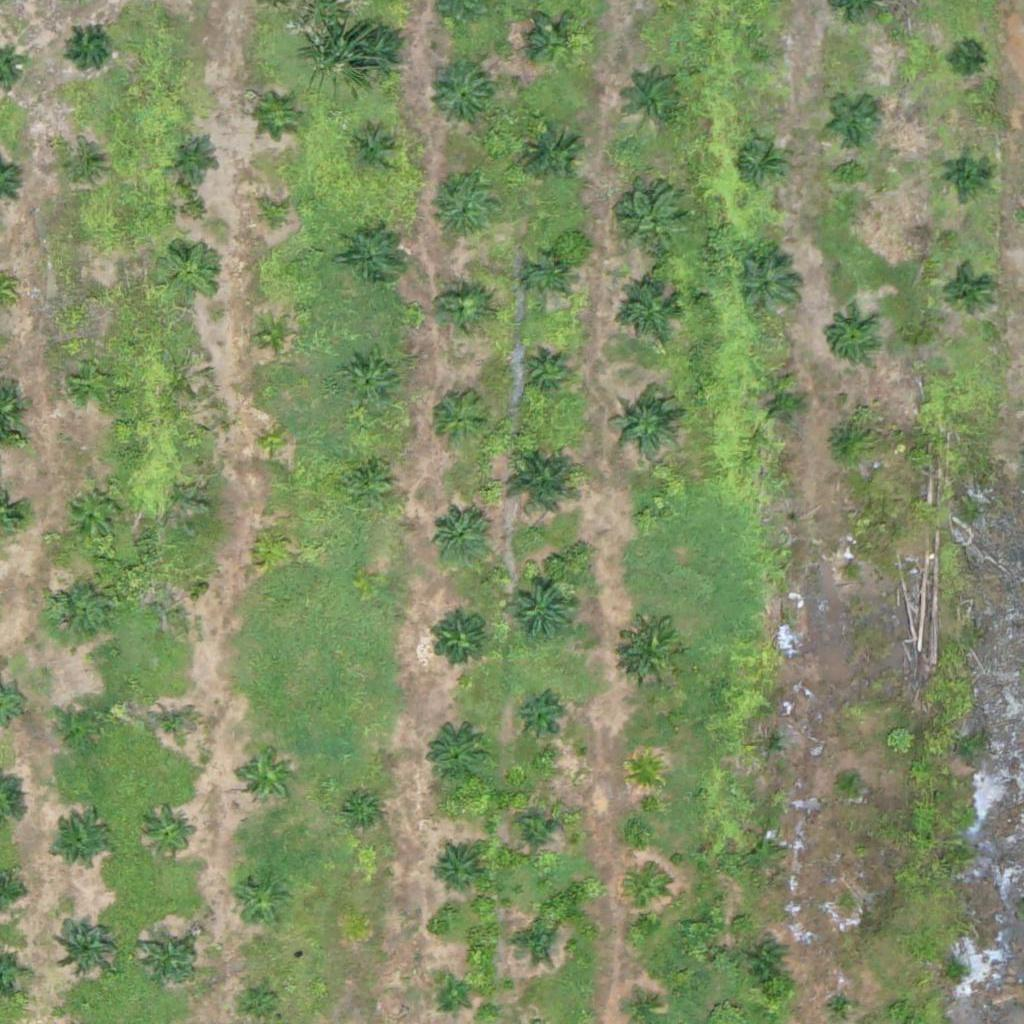Kelapa_Sawit: (500, 438, 587, 526), (608, 389, 683, 465), (503, 569, 578, 644), (228, 869, 291, 932), (426, 387, 489, 450), (431, 180, 494, 243), (429, 504, 492, 567), (737, 253, 800, 316), (620, 621, 683, 684), (45, 578, 108, 641), (344, 223, 407, 286), (235, 746, 298, 809), (340, 353, 403, 416), (345, 23, 408, 86), (50, 814, 112, 877), (138, 928, 200, 991), (54, 911, 116, 974), (430, 64, 492, 127), (423, 724, 485, 787), (427, 607, 489, 670), (520, 124, 582, 187), (620, 281, 682, 344), (622, 191, 685, 253), (628, 69, 690, 132), (63, 481, 125, 544), (159, 241, 221, 304), (144, 807, 194, 858), (429, 845, 479, 896), (940, 266, 990, 317), (506, 915, 556, 966), (349, 127, 399, 178), (758, 379, 808, 430), (820, 414, 870, 465), (148, 701, 198, 752), (60, 699, 110, 750), (438, 286, 488, 336), (510, 695, 560, 745), (942, 149, 992, 199), (830, 94, 880, 144), (530, 16, 580, 66), (737, 137, 787, 187), (825, 312, 875, 362), (343, 454, 393, 504), (511, 809, 561, 859), (169, 132, 219, 182), (69, 357, 119, 407), (519, 347, 568, 398), (263, 97, 301, 135), (70, 25, 108, 63), (626, 752, 664, 790), (748, 941, 786, 979), (628, 874, 666, 912), (744, 832, 782, 870), (256, 198, 294, 236), (254, 317, 292, 355), (256, 424, 294, 462), (252, 524, 290, 562), (343, 795, 381, 833), (529, 256, 566, 294), (753, 726, 790, 764), (434, 978, 471, 1016), (64, 149, 101, 187), (76, 278, 113, 316), (159, 576, 196, 614), (242, 984, 279, 1021), (952, 46, 977, 71), (751, 39, 776, 64), (838, 766, 863, 791), (835, 557, 860, 582), (636, 504, 661, 529)
